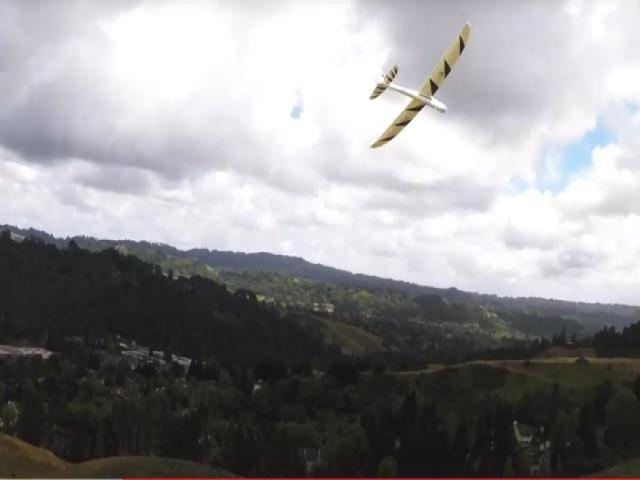iha: (368, 22, 471, 150)
